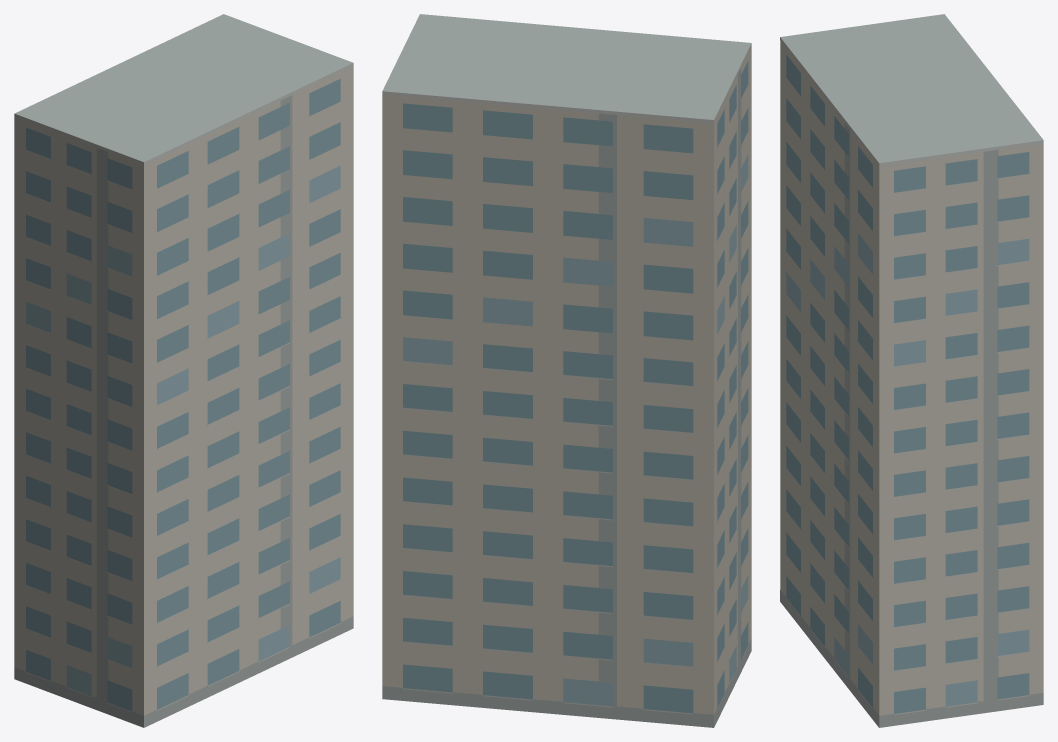
The model's file is residential-a4ee6072-0353-4a4b-9140-f23409e1d7c8.glb.
3 renders of one model, left to right at view 1: azimuth 30°, elevation 25°; view 2: azimuth 150°, elevation 25°; view 3: azimuth 270°, elevation 25°, orthographic. The views are drawn at different scales.
Visible parts, largest first — view 1: residential-a4ee6072-0353-4a4b-9140-f23409e1d7c8.tmp; view 2: residential-a4ee6072-0353-4a4b-9140-f23409e1d7c8.tmp; view 3: residential-a4ee6072-0353-4a4b-9140-f23409e1d7c8.tmp.
Part boxes in pixels (x1,y1,x2,y2): residential-a4ee6072-0353-4a4b-9140-f23409e1d7c8.tmp: [14, 14, 353, 727]; residential-a4ee6072-0353-4a4b-9140-f23409e1d7c8.tmp: [382, 14, 751, 727]; residential-a4ee6072-0353-4a4b-9140-f23409e1d7c8.tmp: [780, 14, 1043, 727].
Size of the model in its own units: 24.38 by 43 by 18.2.
